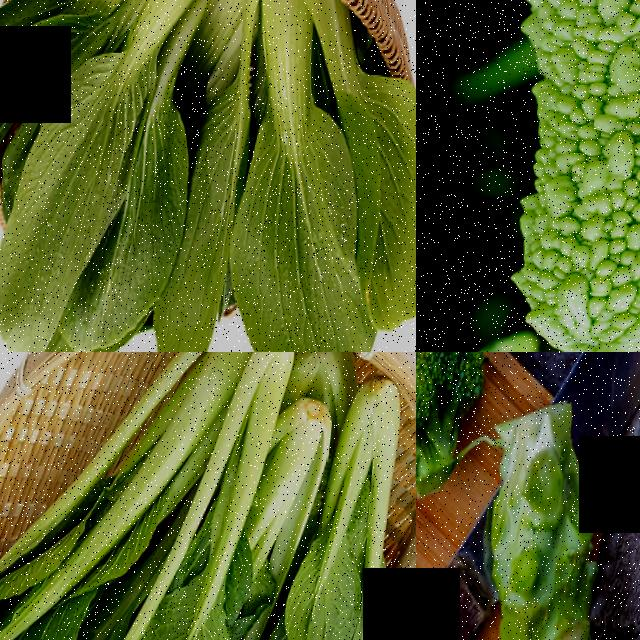bitter gourd: (465, 0, 640, 352)
bok choy: (190, 0, 379, 352), (5, 352, 233, 640), (2, 0, 196, 321), (219, 385, 328, 640), (321, 354, 416, 640)
broccoli: (416, 352, 512, 475)
